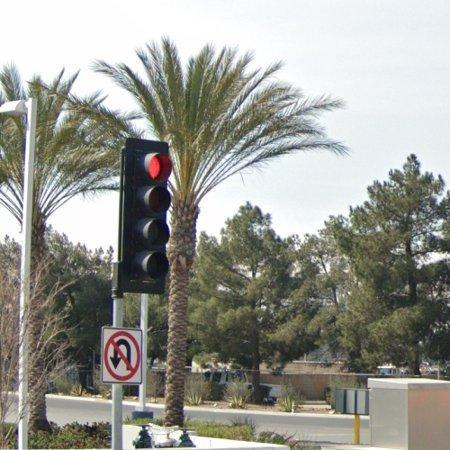traffic lights: (118, 134, 176, 297)
